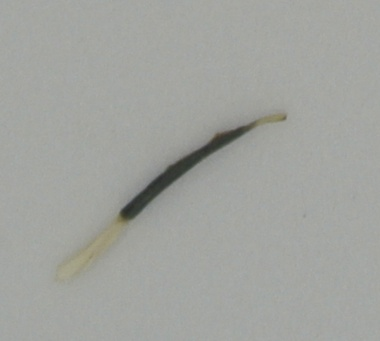เมล็ดงอกแตก: (50, 111, 288, 287)
